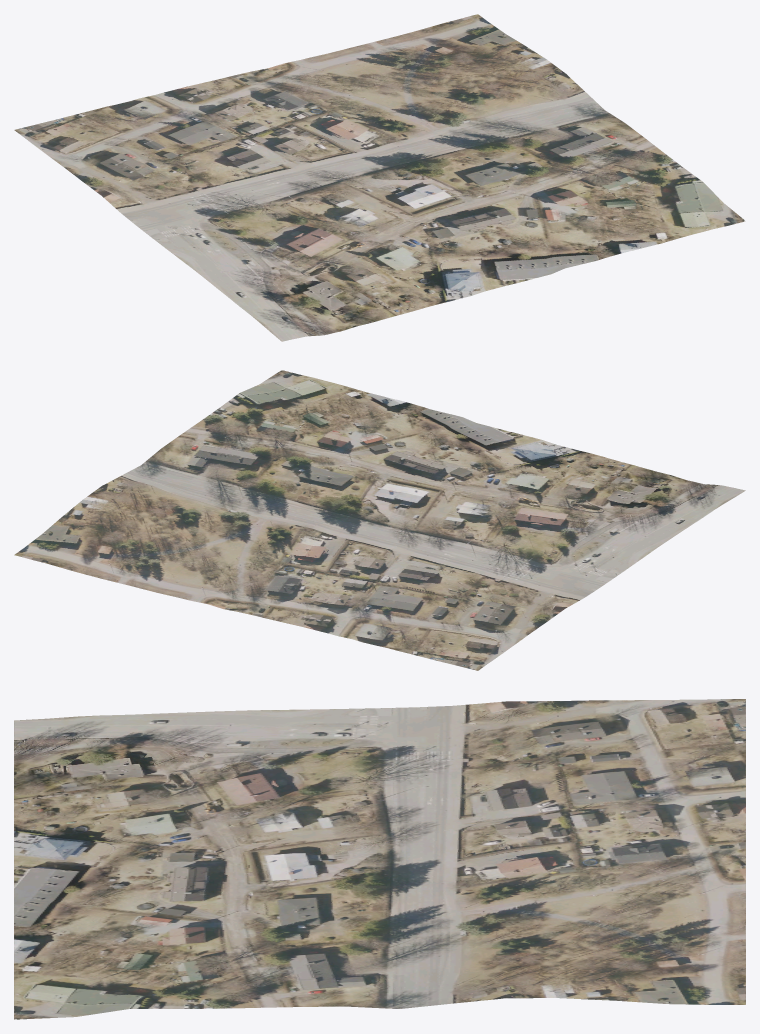
The model's file is CM_Terrain_24490868_6819589.fbx.
The picture shows the model from 3 angles, top to bottom: view 1: azimuth 30°, elevation 25°; view 2: azimuth 150°, elevation 25°; view 3: azimuth 270°, elevation 25°; orthographic projection. The views are drawn at different scales.
Parts seen in each view (by area): view 1: CM_Terrain_24490868_6819589_LOD0; view 2: CM_Terrain_24490868_6819589_LOD0; view 3: CM_Terrain_24490868_6819589_LOD0.
Part boxes in pixels (x1,y1,x2,y2): CM_Terrain_24490868_6819589_LOD0: (14,14,745,341); CM_Terrain_24490868_6819589_LOD0: (14,370,745,670); CM_Terrain_24490868_6819589_LOD0: (14,699,745,1019).
Size of what is drawn, in the model's own units: 205 by 11.55 by 205.
